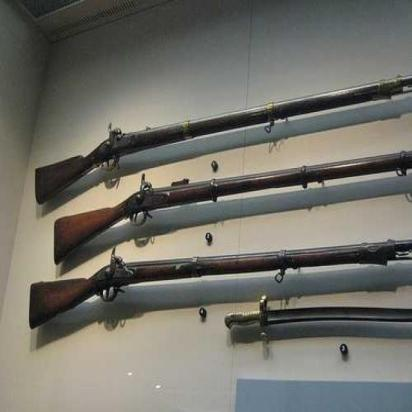Gun: (31, 71, 412, 207), (51, 144, 412, 264), (29, 238, 412, 330)
